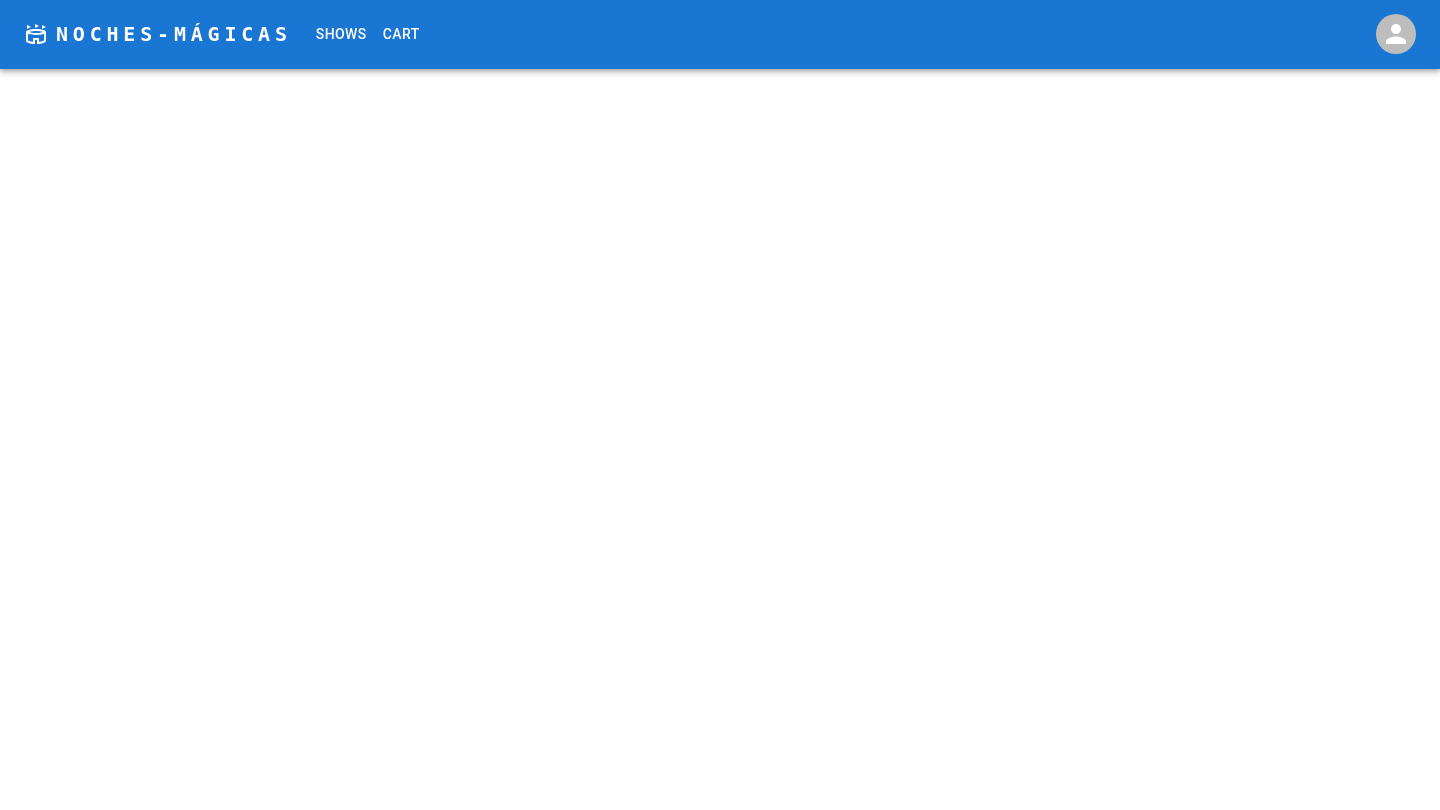
Test: Test para navbar component › se muestra la opción de perfil al hacer clic en el avatar de un usuario comun
Click the button with test id "boton-avatar": x=1396, y=34 [1376,14,1416,54]
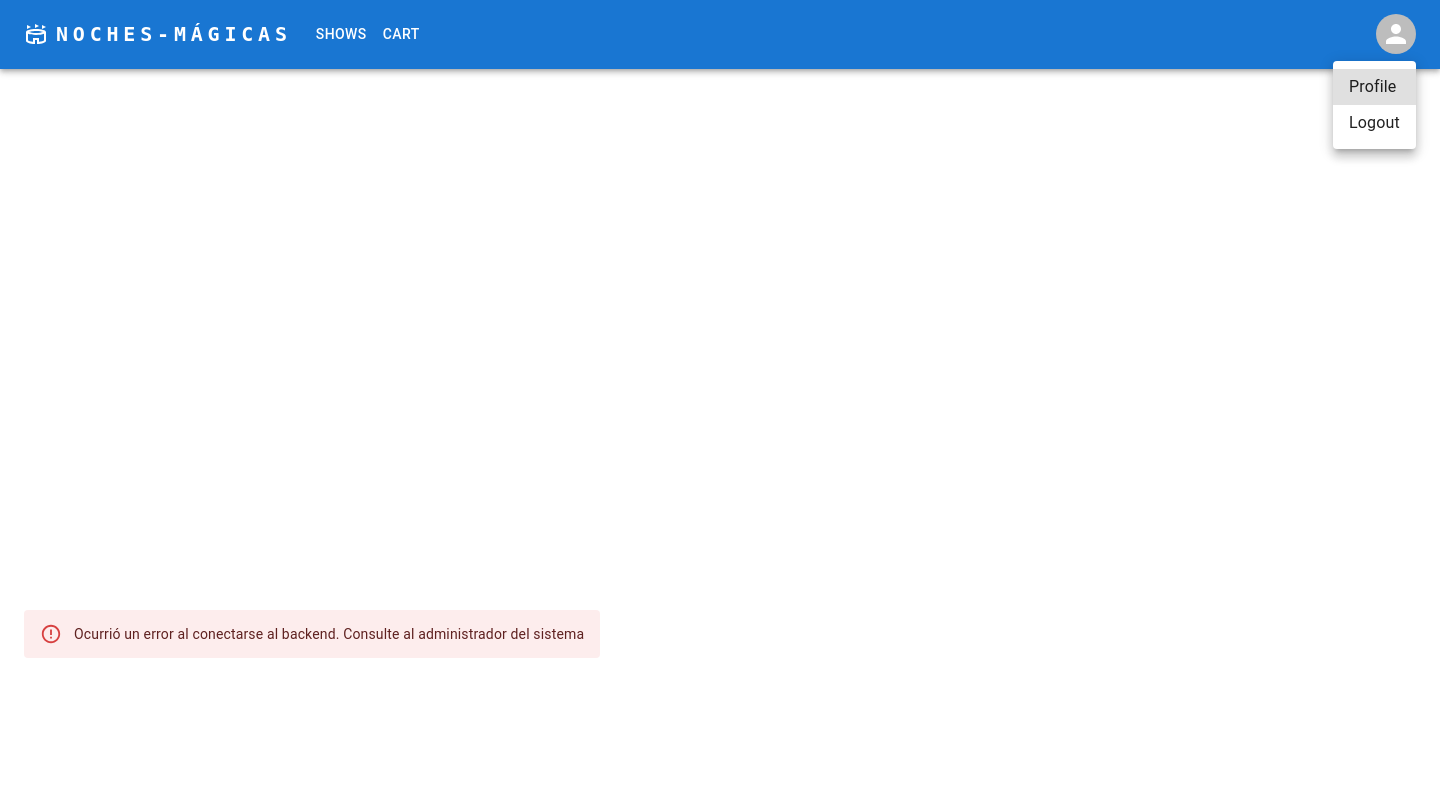
Now the text "Profile" is shown, box [1349,75,1396,99]
